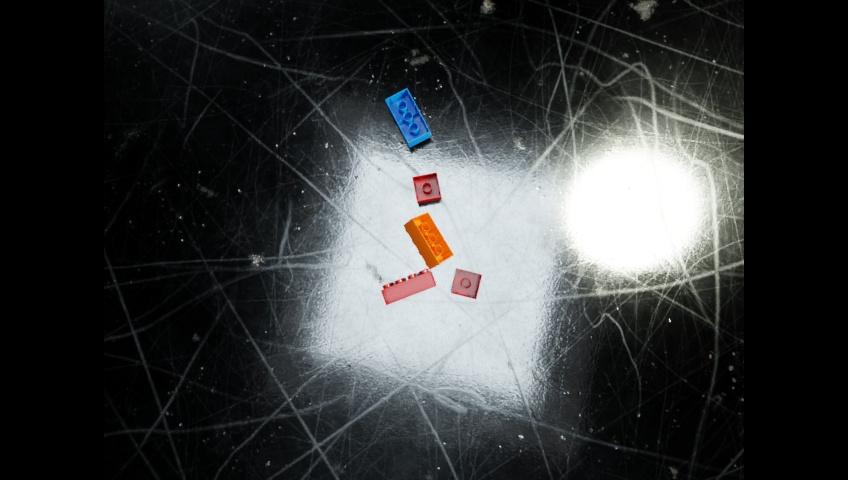2x2_red: (450, 267, 481, 299), (412, 171, 440, 203)
4x2_blue: (385, 87, 429, 147)
4x2_orange: (403, 211, 452, 269)
4x2_red: (380, 268, 435, 304)
